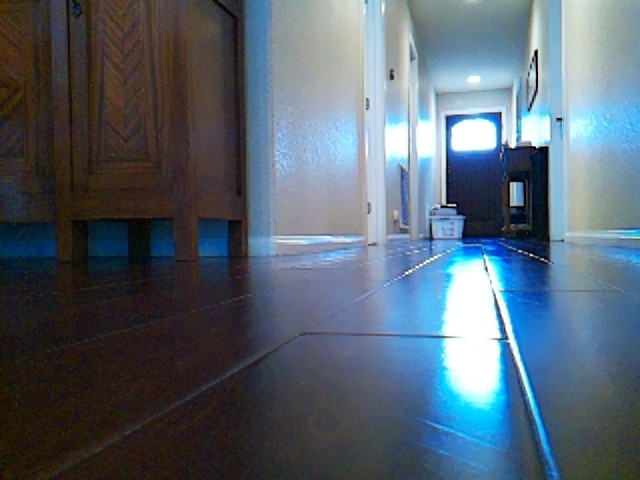Drivable Area: (17, 282, 640, 480), (291, 261, 640, 282), (340, 251, 633, 266), (405, 241, 534, 258)
Obstacle: (1, 0, 278, 263)
